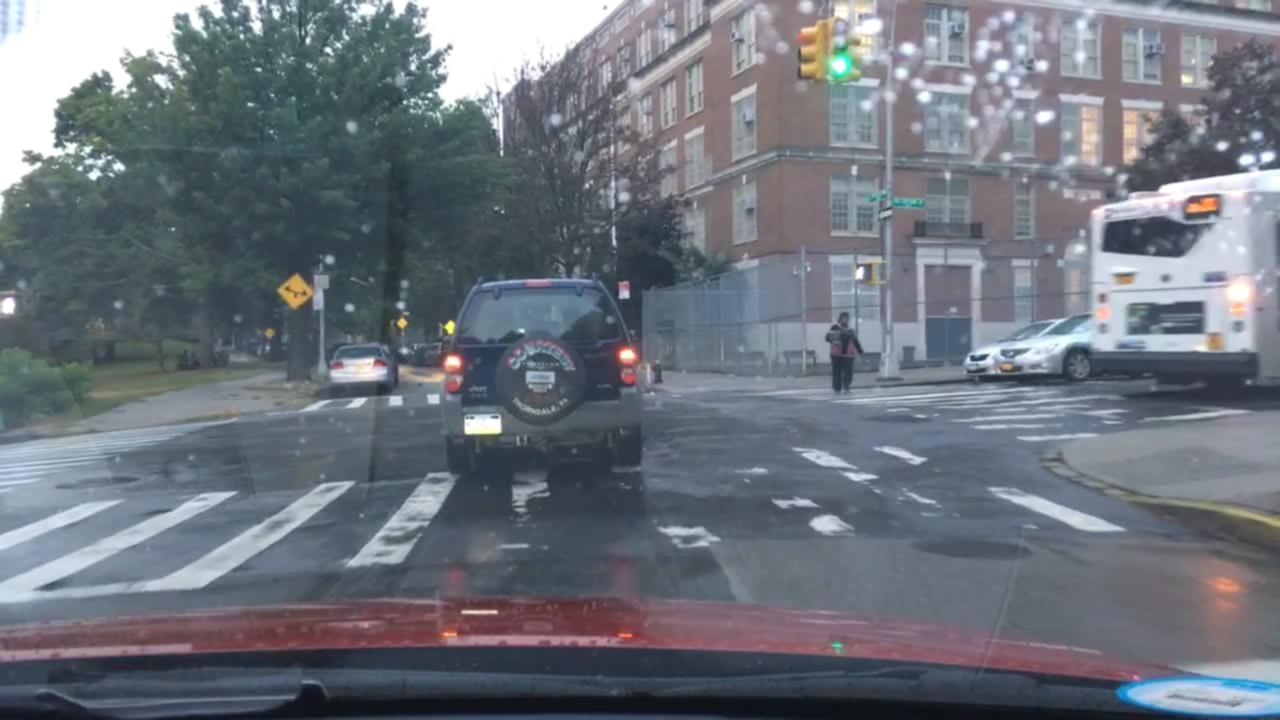jeep: (469, 382, 490, 395)
